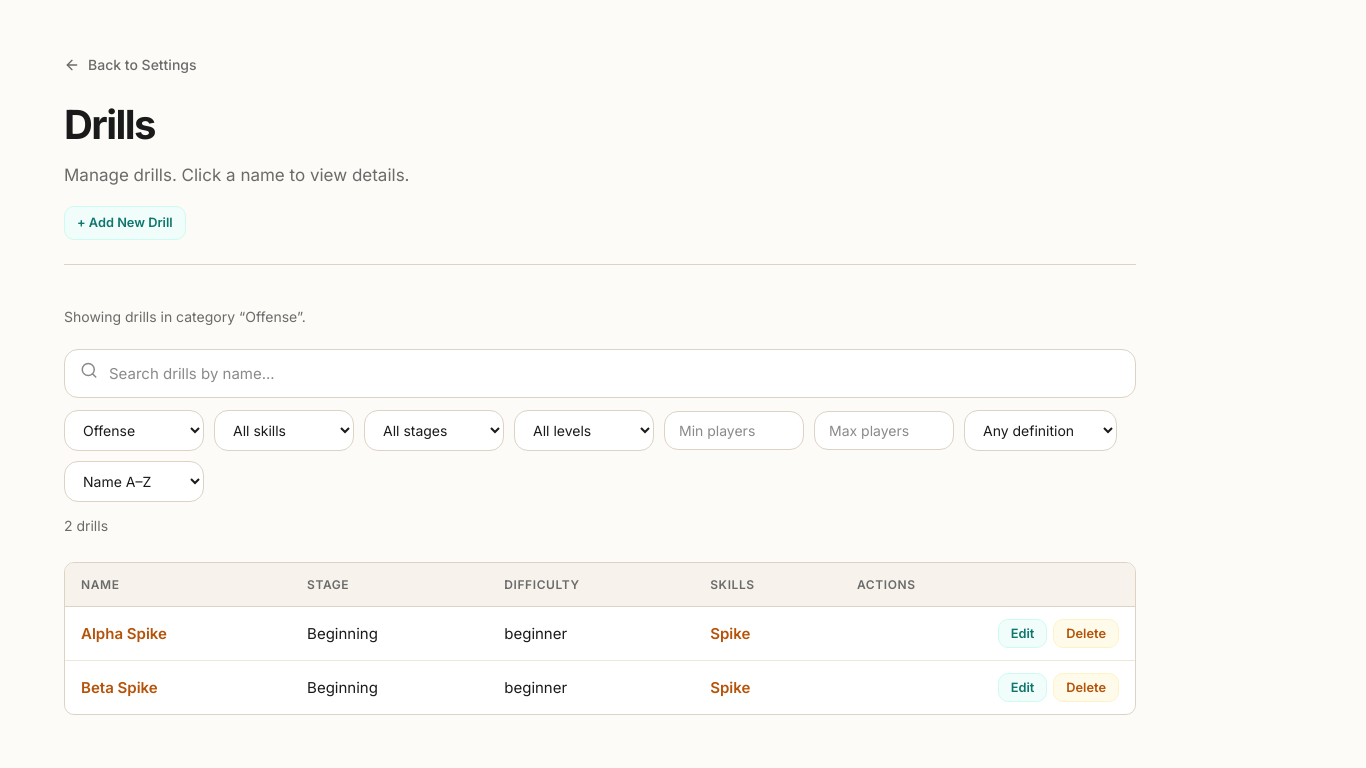
Test: settings Drills — visual definition filter › shows only drills without a visual definition
Expected: the link "Alpha Spike" is shown, x1=81 y1=624 x2=167 y2=643
Select "No definition" in the dropdown named "Filter by visual definition". click: [1040, 431]
box: x1=964 y1=410 x2=1117 y2=451
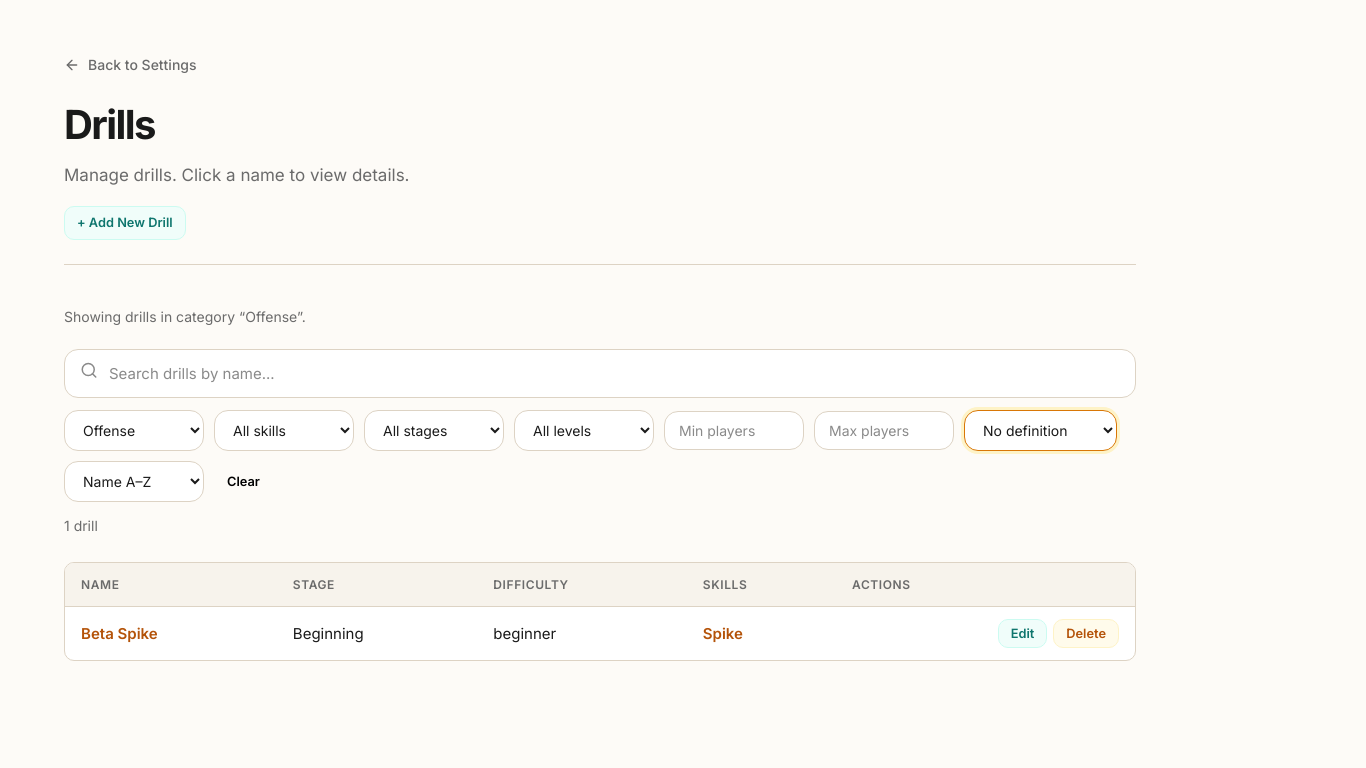
Expected: the link "Beta Spike" is shown, x1=81 y1=624 x2=158 y2=643
Expected: the link "Alpha Spike" is gone
